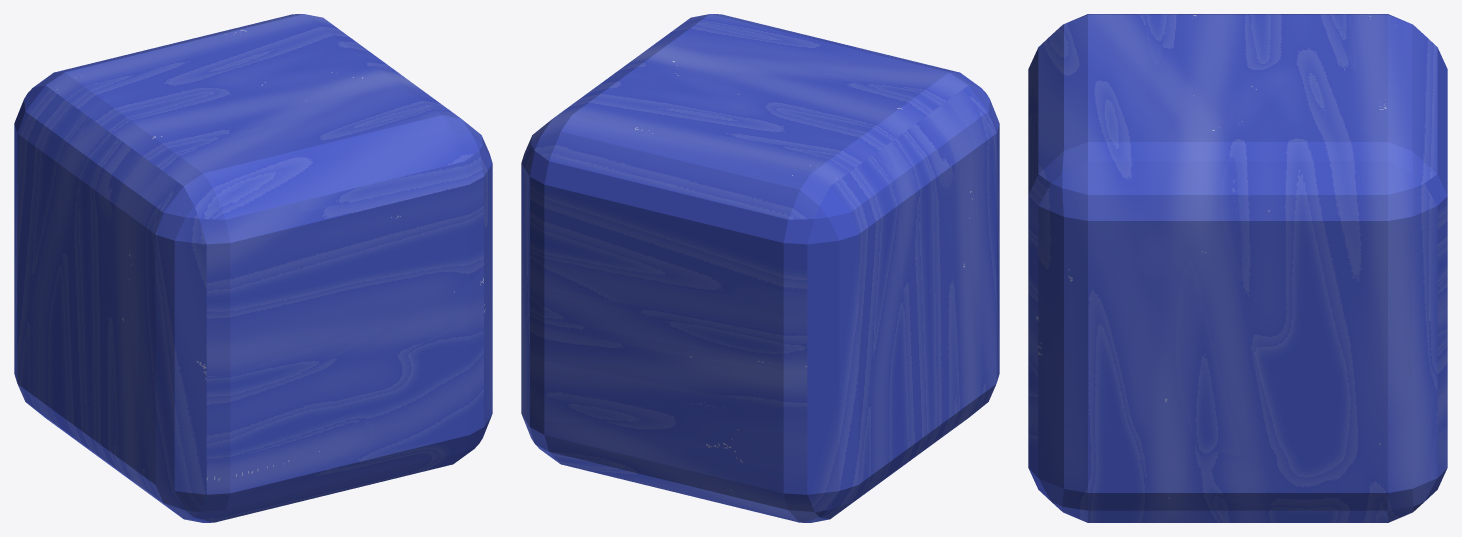
The model's file is sea.obj.
3 renders of one model, left to right at view 1: azimuth 30°, elevation 25°; view 2: azimuth 150°, elevation 25°; view 3: azimuth 270°, elevation 25°, orthographic. The views are drawn at different scales.
Visible parts, largest first — view 1: 立方体_立方体.002; view 2: 立方体_立方体.002; view 3: 立方体_立方体.002.
Part boxes in pixels (x1,y1,x2,y2): 立方体_立方体.002: (14, 14, 492, 522); 立方体_立方体.002: (521, 14, 999, 522); 立方体_立方体.002: (1028, 14, 1447, 522).
Size of the model in its own units: 2 by 2 by 2.
Materials: 1 (1 with a texture image).
